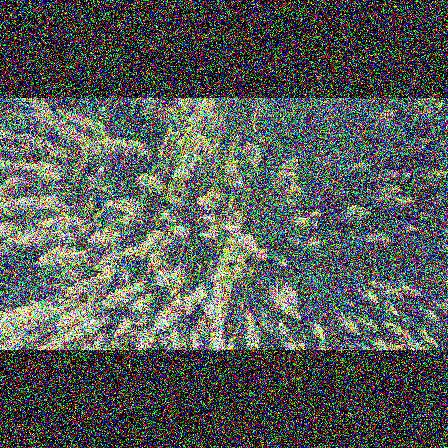Sick: (222, 161, 241, 176), (172, 164, 190, 179)
